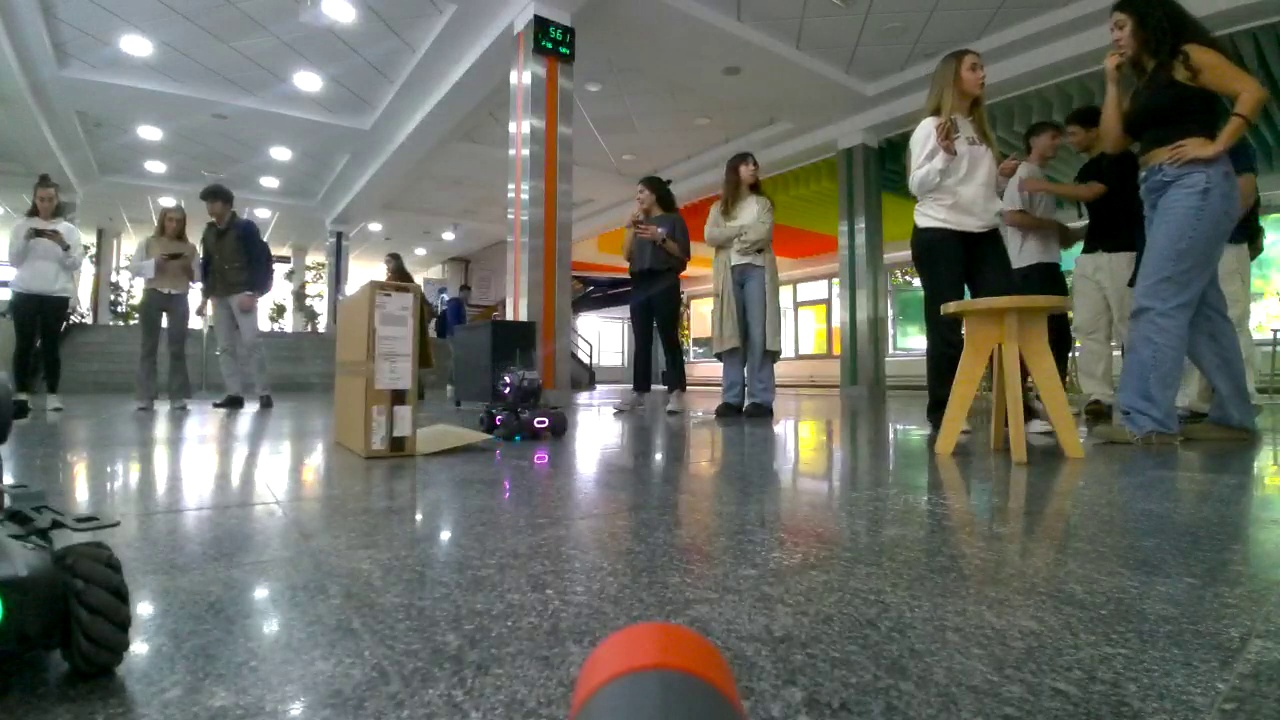robot: (478, 365, 570, 439)
